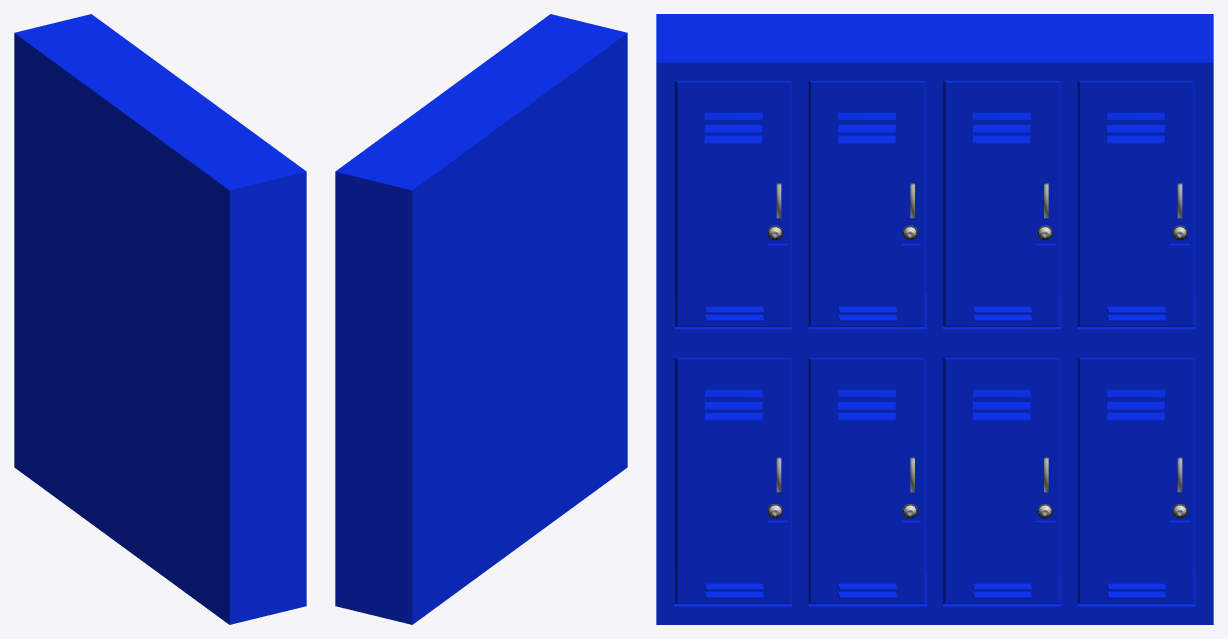
Rendered from school.fbx_big_lockers.fbx.
The picture shows the model from 3 angles, left to right: view 1: azimuth 30°, elevation 25°; view 2: azimuth 150°, elevation 25°; view 3: azimuth 270°, elevation 25°; orthographic projection. The views are drawn at different scales.
Visible parts, largest first — view 1: Locker_a; view 2: Locker_a; view 3: Locker_a, Lockerdoor_a, Lockerdoor_d, Lockerdoor_b, Lockerdoor_e, Lockerdoor_f, Lockerdoor_h, Lockerdoor_c, Lockerdoor_g, Locker_a.001.
Part boxes in pixels (bbox=[...]): Locker_a: bbox=[14, 14, 306, 624]; Locker_a: bbox=[335, 14, 627, 624]; Locker_a: bbox=[656, 14, 1213, 624]; Lockerdoor_a: bbox=[674, 81, 792, 326]; Lockerdoor_d: bbox=[1077, 81, 1195, 326]; Lockerdoor_b: bbox=[808, 81, 926, 326]; Lockerdoor_e: bbox=[674, 358, 792, 603]; Lockerdoor_f: bbox=[808, 358, 926, 603]; Lockerdoor_h: bbox=[1077, 358, 1195, 603]; Lockerdoor_c: bbox=[943, 81, 1060, 326]; Lockerdoor_g: bbox=[943, 358, 1060, 603]; Locker_a.001: bbox=[674, 81, 1195, 603].
Bounding box in the file's own units: 76.94 × 401 × 361.
